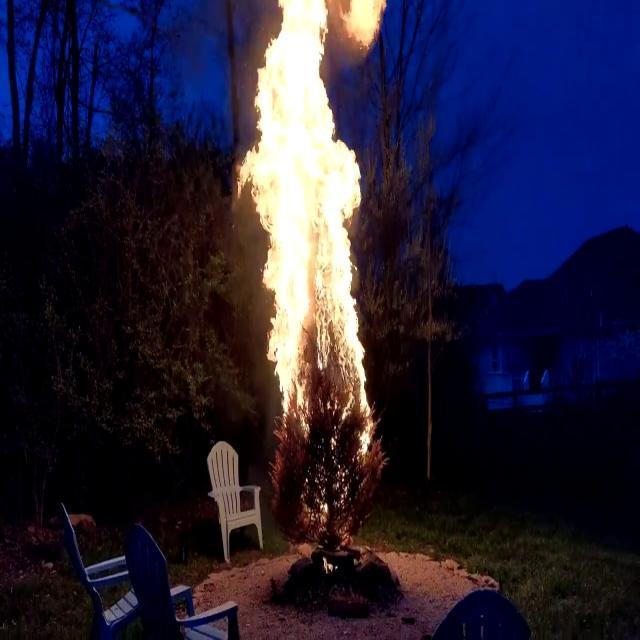Fire: (236, 1, 374, 443)
